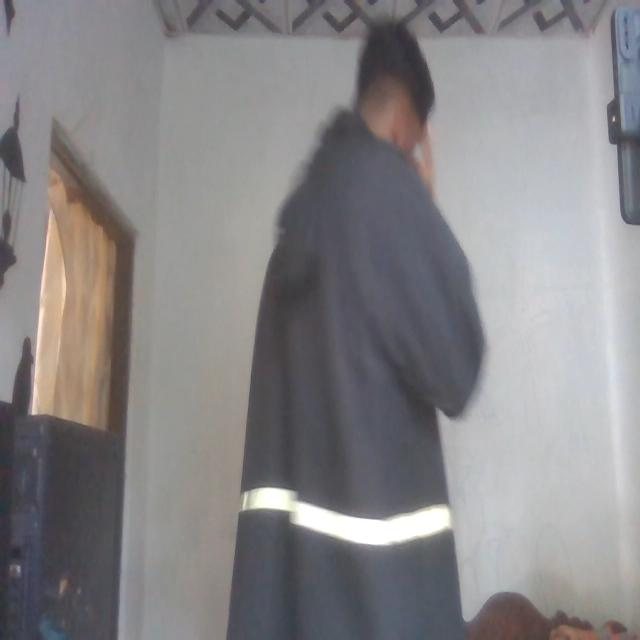Jacket_Wearer: (239, 109, 489, 633)
Person: (232, 0, 474, 640)
